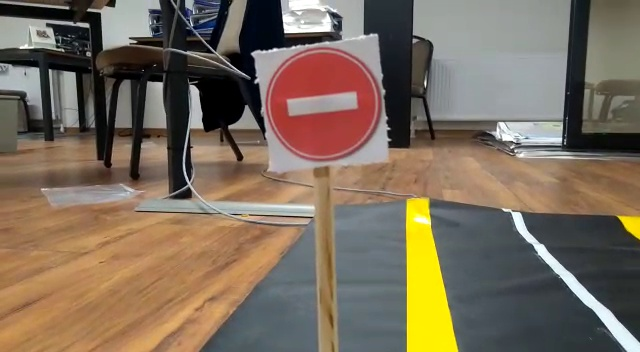girisi_olmayan_yol: (254, 47, 390, 160)
